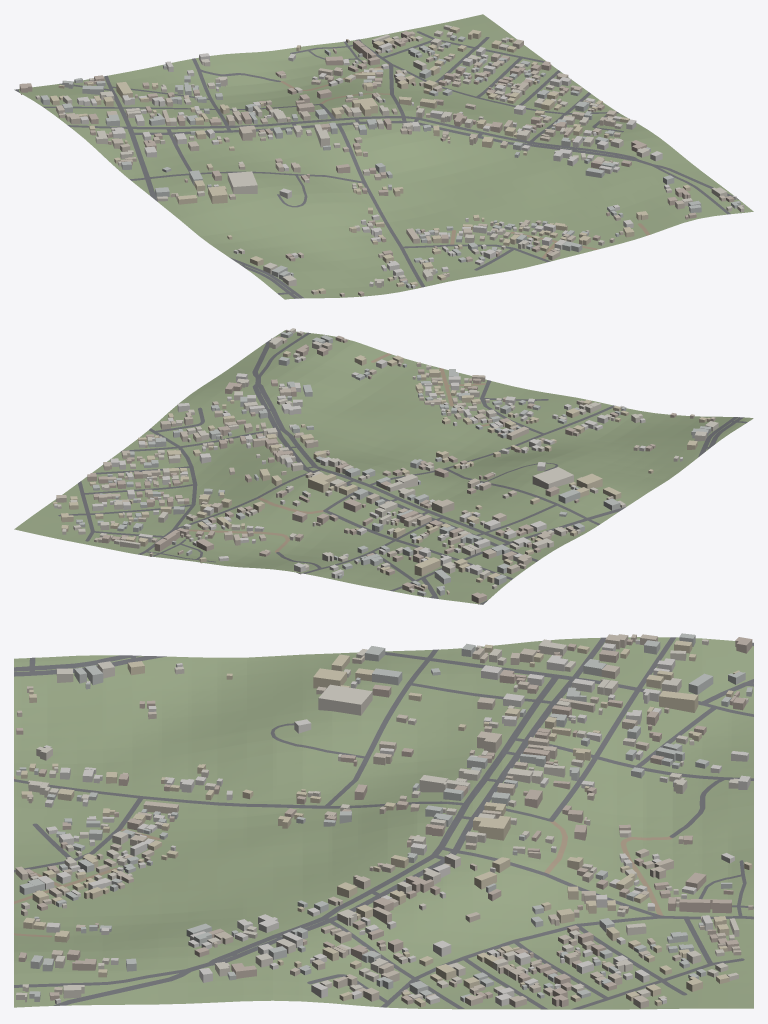
Rendered from fatia.glb.
3 renders of one model, top to bottom at view 1: azimuth 30°, elevation 25°; view 2: azimuth 150°, elevation 25°; view 3: azimuth 270°, elevation 25°, orthographic. The views are drawn at different scales.
Visible parts, largest first — view 1: terreno-col, predios-col, ruas_paved-col, ruas_unpaved-col; view 2: terreno-col, predios-col, ruas_paved-col, ruas_unpaved-col; view 3: terreno-col, predios-col, ruas_paved-col, ruas_unpaved-col.
Boxes of the visible parts, x1=… form: terreno-col: x1=14, y1=14, x2=753, y2=299; predios-col: x1=19, y1=25, x2=744, y2=296; ruas_paved-col: x1=15, y1=31, x2=738, y2=298; ruas_unpaved-col: x1=279, y1=64, x2=650, y2=288; terreno-col: x1=14, y1=330, x2=753, y2=604; predios-col: x1=53, y1=328, x2=718, y2=604; ruas_paved-col: x1=58, y1=332, x2=747, y2=604; ruas_unpaved-col: x1=186, y1=353, x2=489, y2=552; terreno-col: x1=14, y1=637, x2=753, y2=1009; predios-col: x1=15, y1=633, x2=753, y2=1008; ruas_paved-col: x1=14, y1=637, x2=753, y2=1009; ruas_unpaved-col: x1=14, y1=776, x2=673, y2=937.
Bounding box in the file's own units: 800 × 78.46 × 800.
